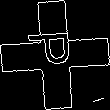P_E: (28, 35, 82, 75)
